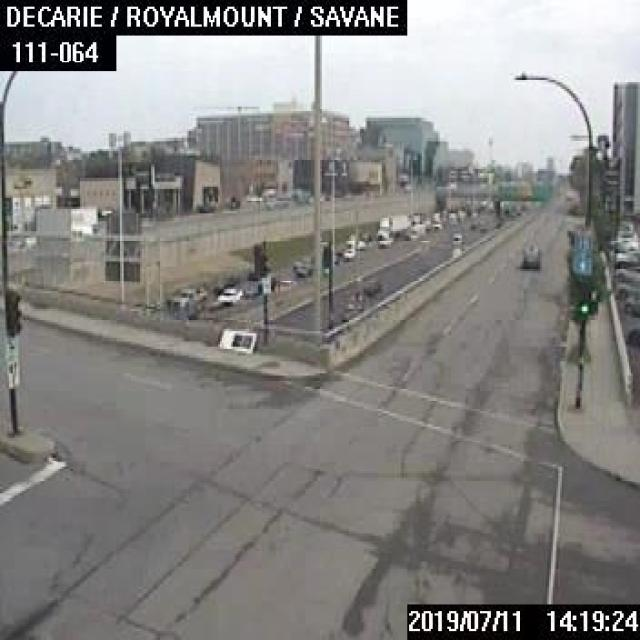vehicle: (377, 213, 408, 239), (170, 284, 204, 306), (613, 263, 638, 283), (518, 244, 540, 266), (614, 248, 638, 268), (614, 281, 638, 301), (216, 286, 240, 303), (614, 234, 638, 250), (624, 320, 638, 345), (624, 293, 638, 315)
